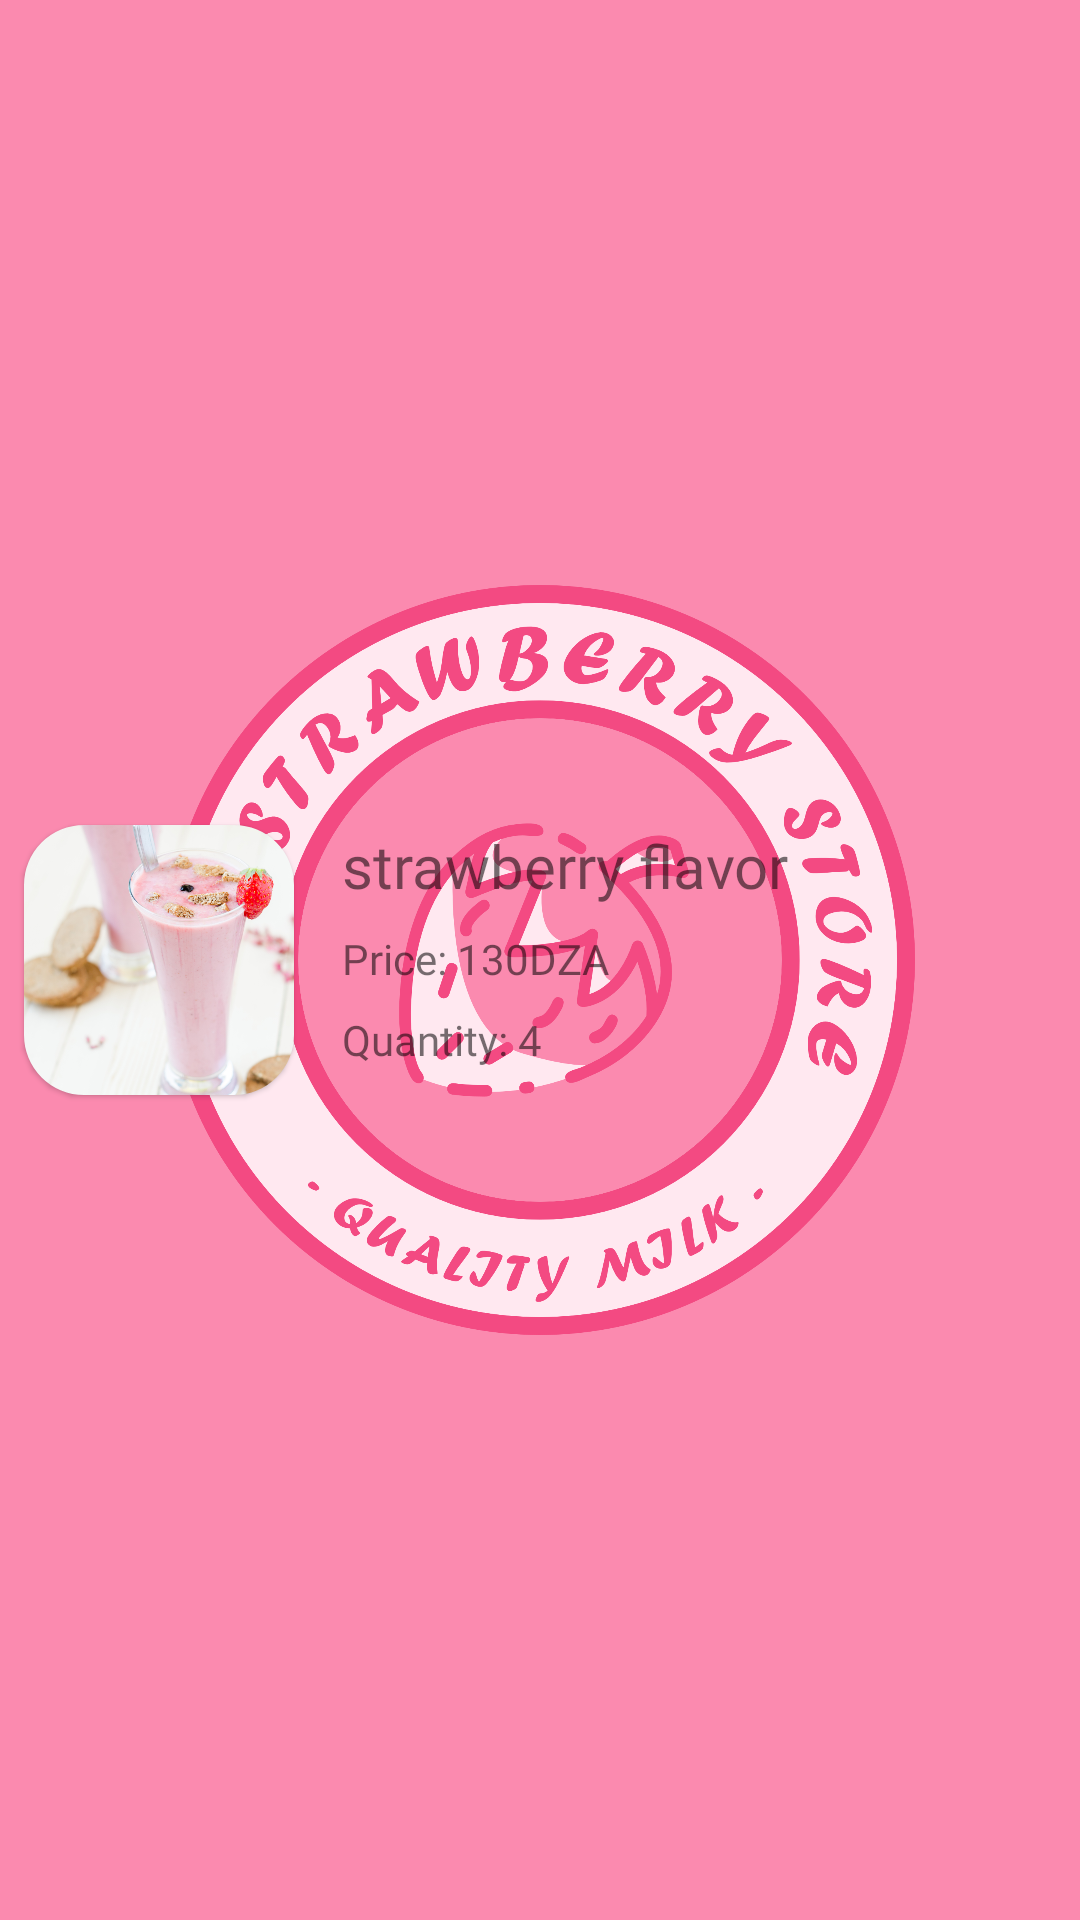

Named icons in this screenshot (1080 × 1920) and their centers, point (x, y):
product: point (159, 960)
